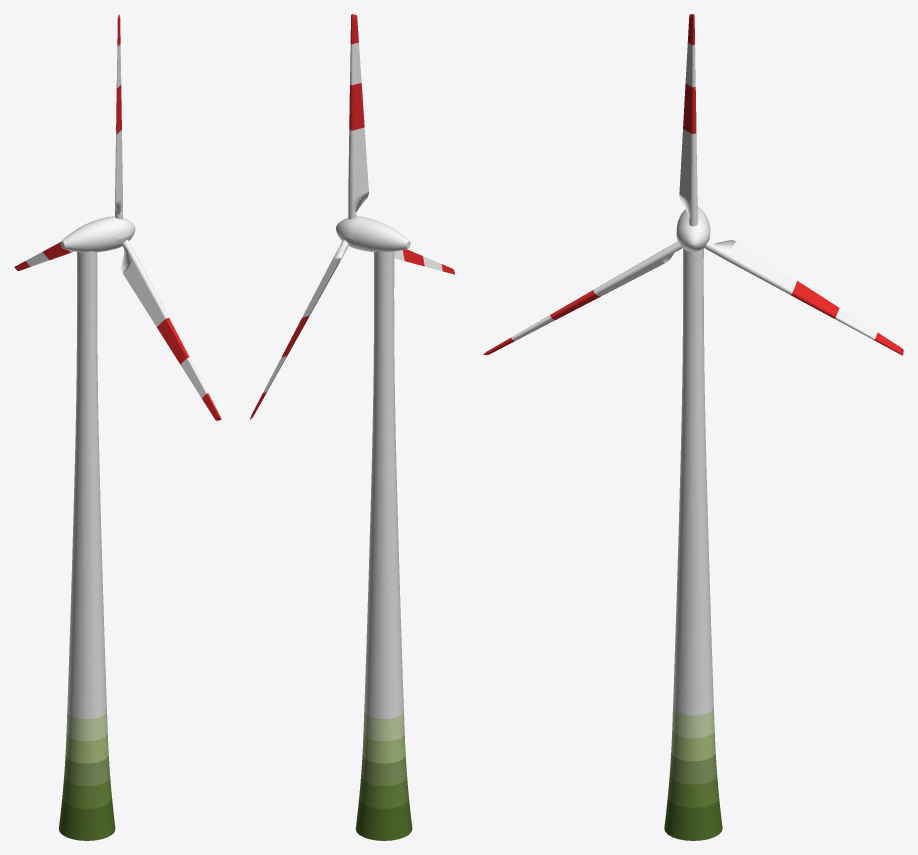
Rendered from enercon_e101_135m.dae.
3 renders of one model, left to right at view 1: azimuth 30°, elevation 25°; view 2: azimuth 150°, elevation 25°; view 3: azimuth 270°, elevation 25°, orthographic. The views are drawn at different scales.
Visible parts, largest first — view 1: Mast_135 (×6), Rotor (×3), Hub; view 2: Mast_135 (×6), Rotor (×3), Hub; view 3: Mast_135 (×6), Rotor.
Boxes of the visible parts, left/top/right/bottom form: Mast_135 (×6): left=58, top=251, right=115, bottom=840; Rotor (×3): left=68, top=130, right=207, bottom=397; Hub: left=61, top=217, right=117, bottom=252; Mast_135 (×6): left=355, top=251, right=412, bottom=840; Rotor (×3): left=302, top=42, right=404, bottom=319; Hub: left=353, top=217, right=408, bottom=252; Mast_135 (×6): left=664, top=248, right=722, bottom=840; Rotor: left=593, top=129, right=796, bottom=296.
Bounding box in the file's own units: 679 × 3325 × 7256.
Materials: 9 (7 with a texture image).
